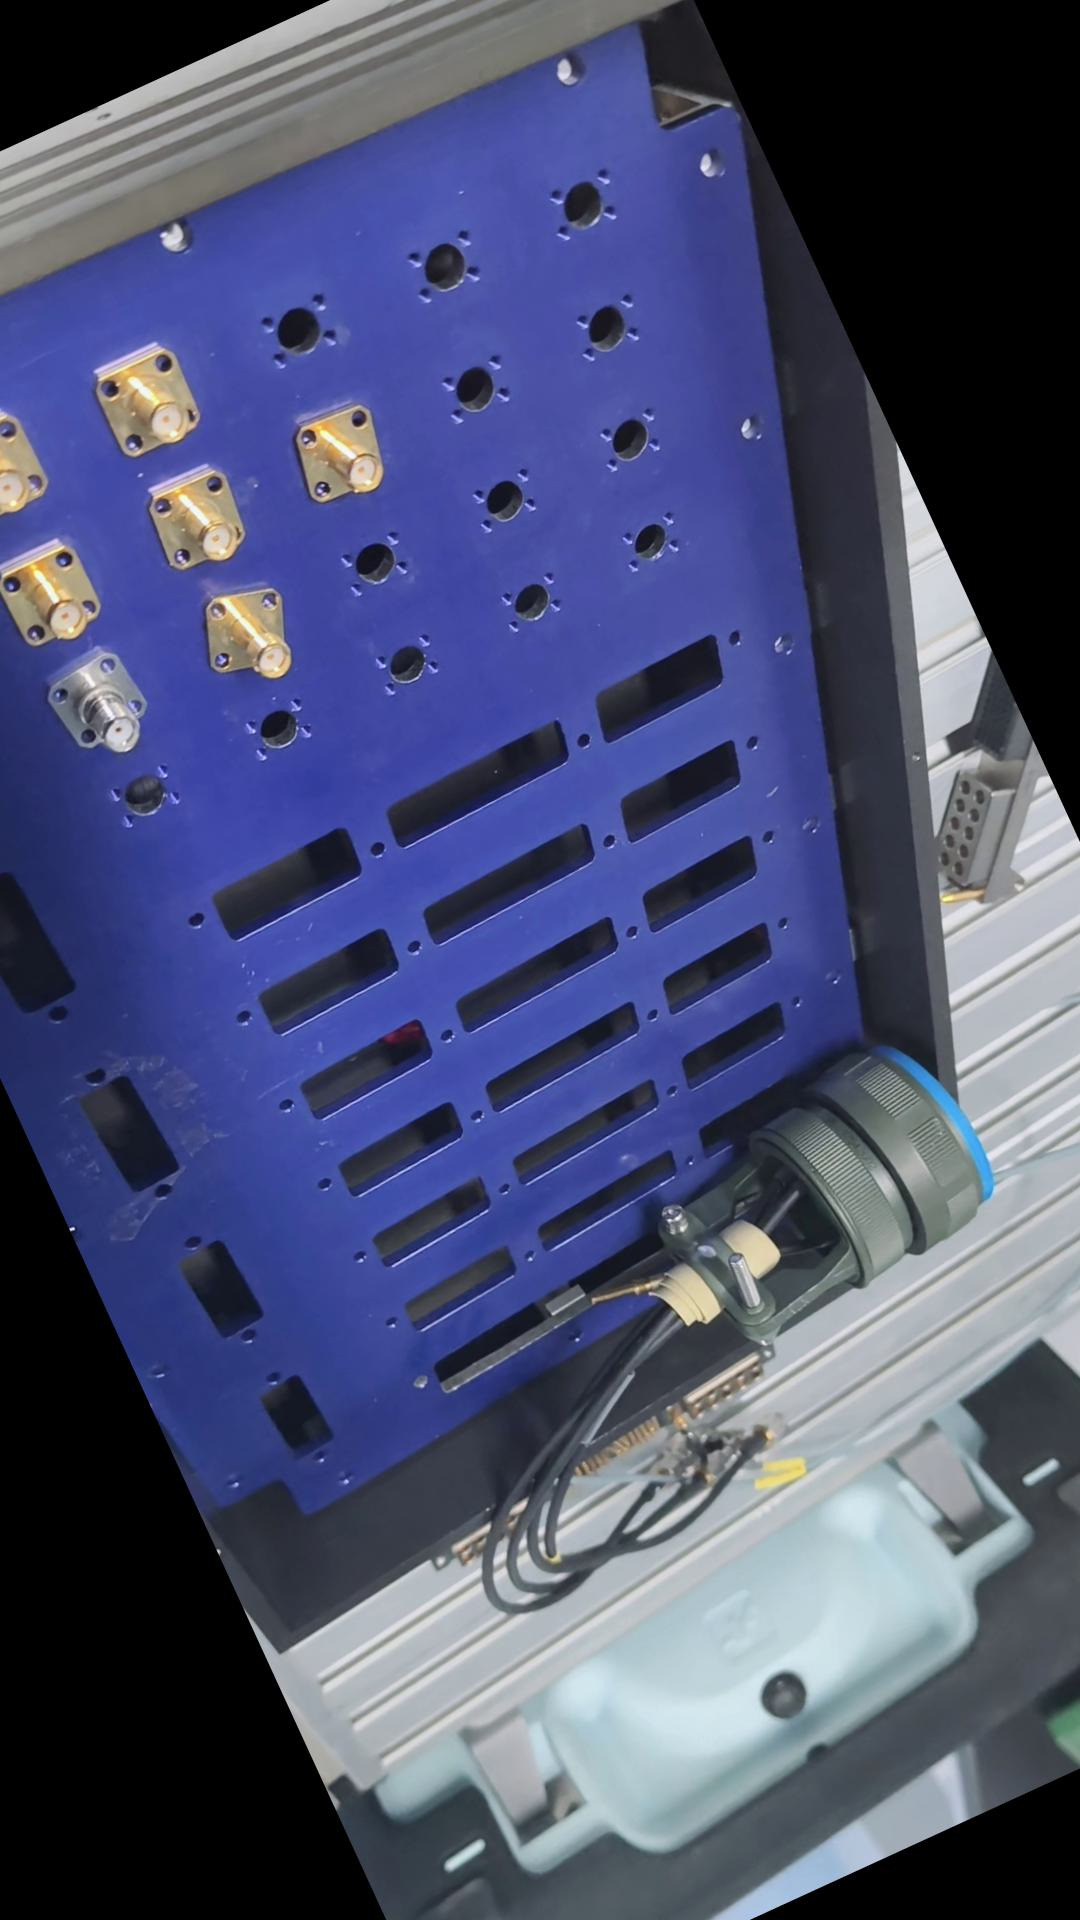SMA: (33, 638, 165, 771), (84, 332, 215, 465), (193, 564, 316, 696), (284, 392, 400, 512), (0, 531, 109, 651), (148, 460, 258, 578), (0, 393, 66, 538)
